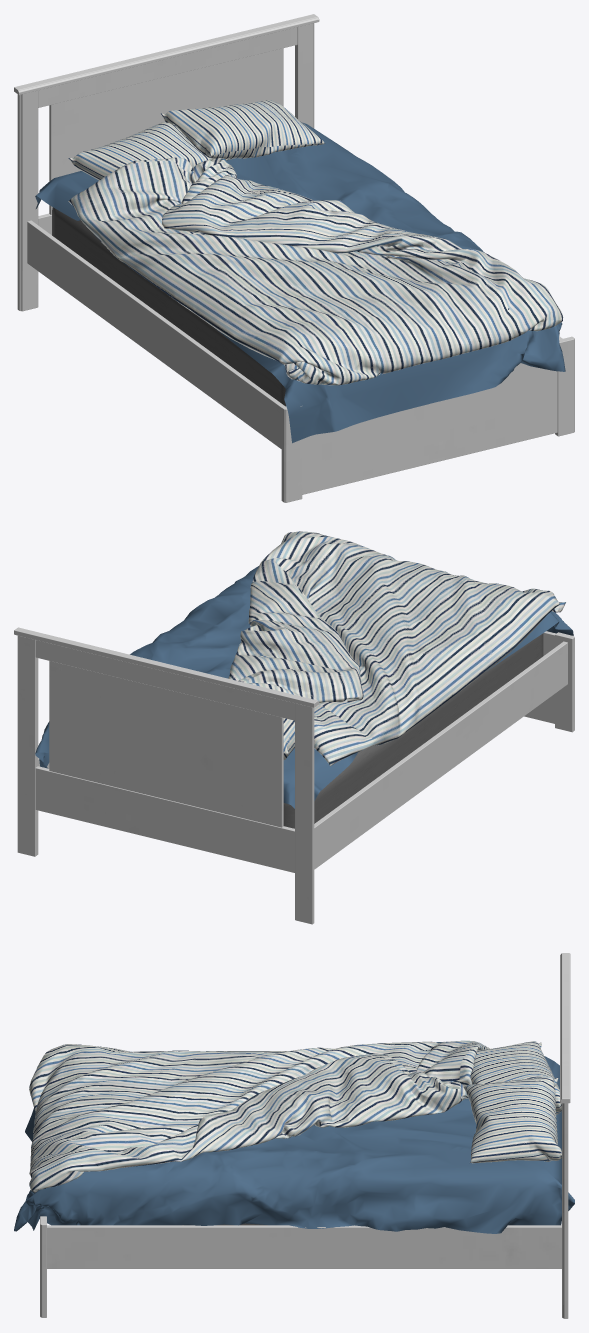
File: messy_bed.glb
3 renders of one model, top to bottom at view 1: azimuth 30°, elevation 25°; view 2: azimuth 150°, elevation 25°; view 3: azimuth 270°, elevation 25°, orthographic.
Visible parts, largest first — view 1: Duvet_Duvet_0, Bed_BedFrame_0, Sheet_Sheet_0, Matress_Matress_0, Pillow_1_Pillow_1_0, Pillow_2_Pillow_2_0; view 2: Bed_BedFrame_0, Duvet_Duvet_0, Sheet_Sheet_0, Matress_Matress_0; view 3: Sheet_Sheet_0, Duvet_Duvet_0, Bed_BedFrame_0, Pillow_1_Pillow_1_0, Pillow_2_Pillow_2_0.
Part boxes in pixels (left/top/right/bottom): Duvet_Duvet_0: left=68, top=157, right=563, bottom=385; Bed_BedFrame_0: left=14, top=14, right=574, bottom=502; Sheet_Sheet_0: left=35, top=122, right=565, bottom=443; Matress_Matress_0: left=52, top=207, right=285, bottom=406; Pillow_1_Pillow_1_0: left=161, top=100, right=325, bottom=158; Pillow_2_Pillow_2_0: left=68, top=122, right=232, bottom=180; Bed_BedFrame_0: left=14, top=627, right=574, bottom=924; Duvet_Duvet_0: left=228, top=531, right=565, bottom=766; Sheet_Sheet_0: left=35, top=566, right=573, bottom=808; Matress_Matress_0: left=283, top=633, right=543, bottom=828; Sheet_Sheet_0: left=14, top=1056, right=574, bottom=1233; Duvet_Duvet_0: left=29, top=1040, right=490, bottom=1192; Bed_BedFrame_0: left=40, top=953, right=570, bottom=1318; Pillow_1_Pillow_1_0: left=463, top=1076, right=561, bottom=1163; Pillow_2_Pillow_2_0: left=470, top=1041, right=561, bottom=1114.
Size of the model in its own units: 134 by 94.99 by 218.
6 materials, 5 textured.
